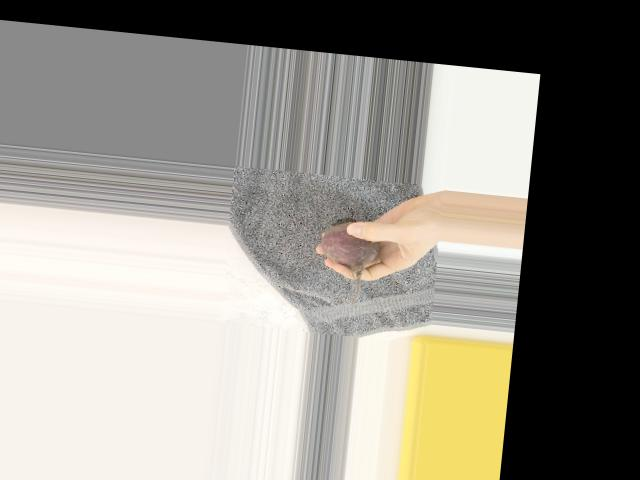beet: (314, 214, 381, 307)
